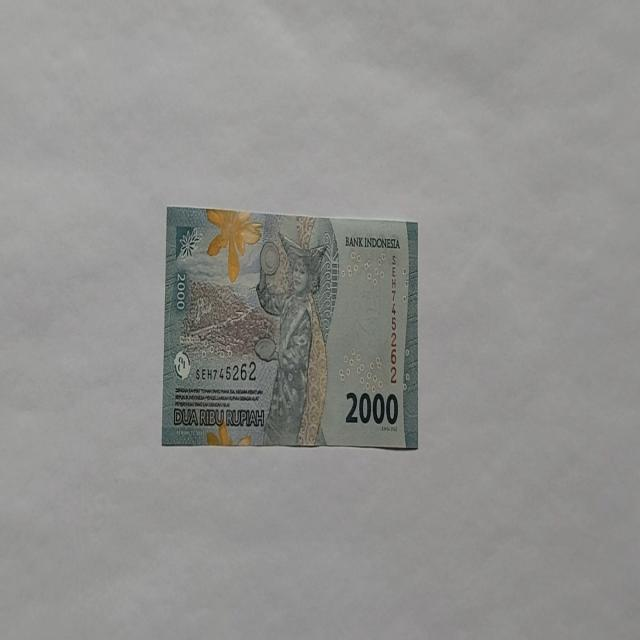dua ribu rupiah: (161, 205, 419, 450), (254, 229, 332, 446)
